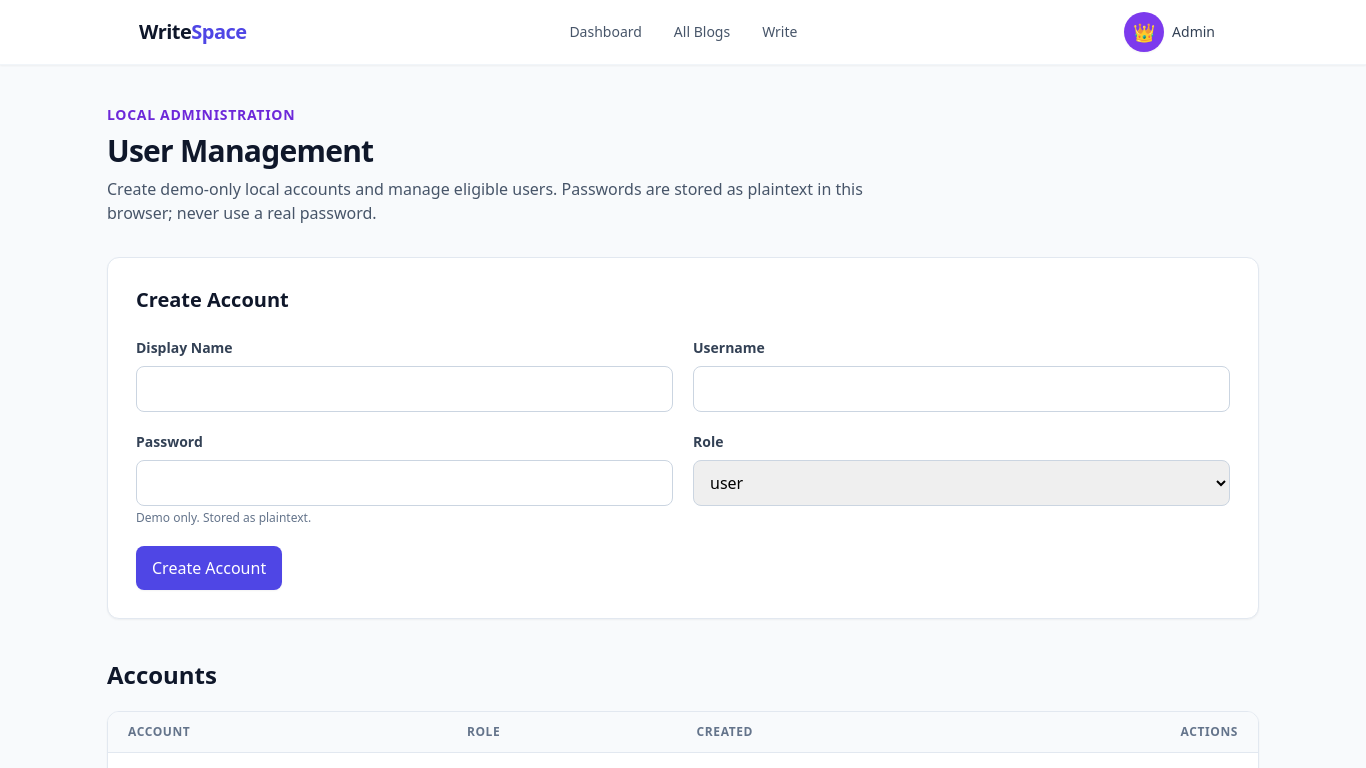
Scenario: user management › announces required field errors, focuses the first field, and writes nothing
This screenshot has width=1366, height=768.
Click the button "Create Account". click: (209, 568)
box: x1=136 y1=546 x2=282 y2=590
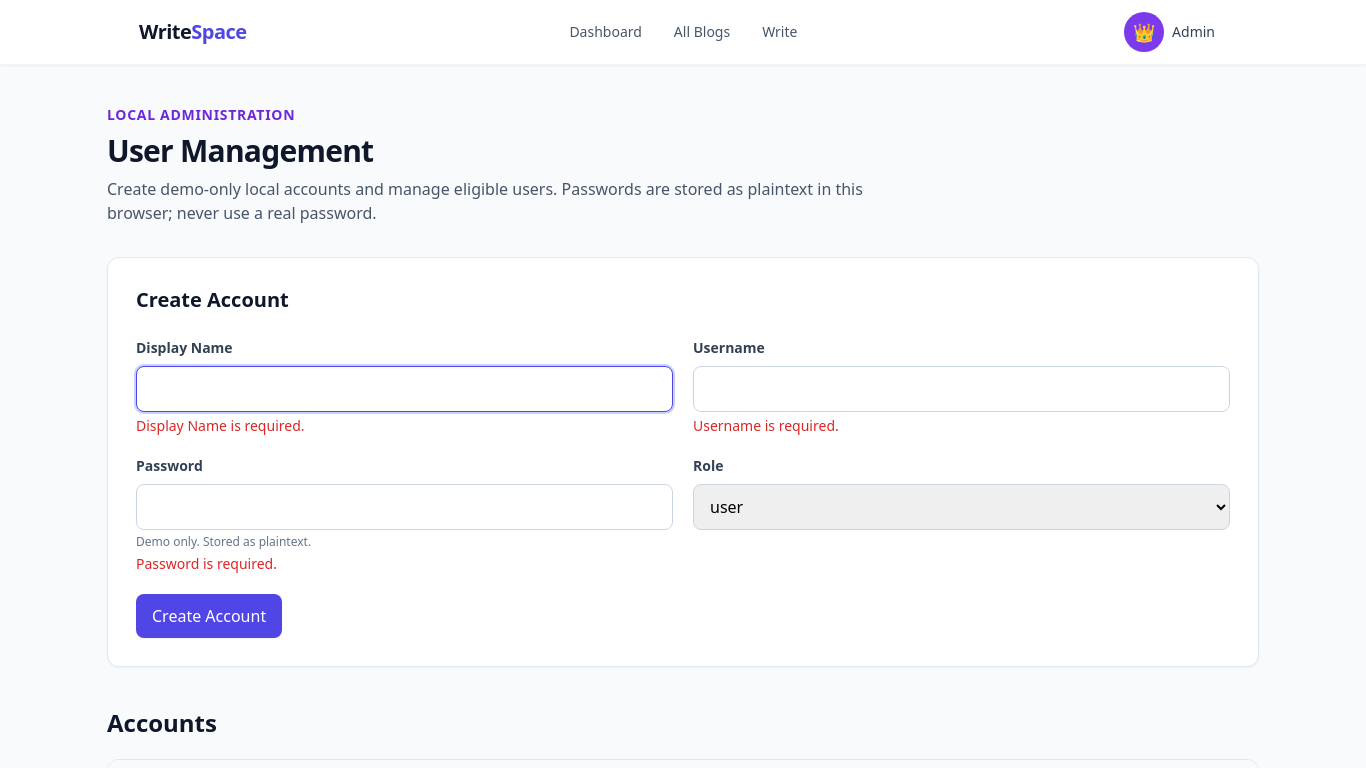
Expected: the text "Display Name is required." is shown, x1=136 y1=416 x2=304 y2=435
Expected: the text "Username is required." is shown, x1=693 y1=416 x2=839 y2=435
Expected: the text "Password is required." is shown, x1=136 y1=554 x2=277 y2=573
